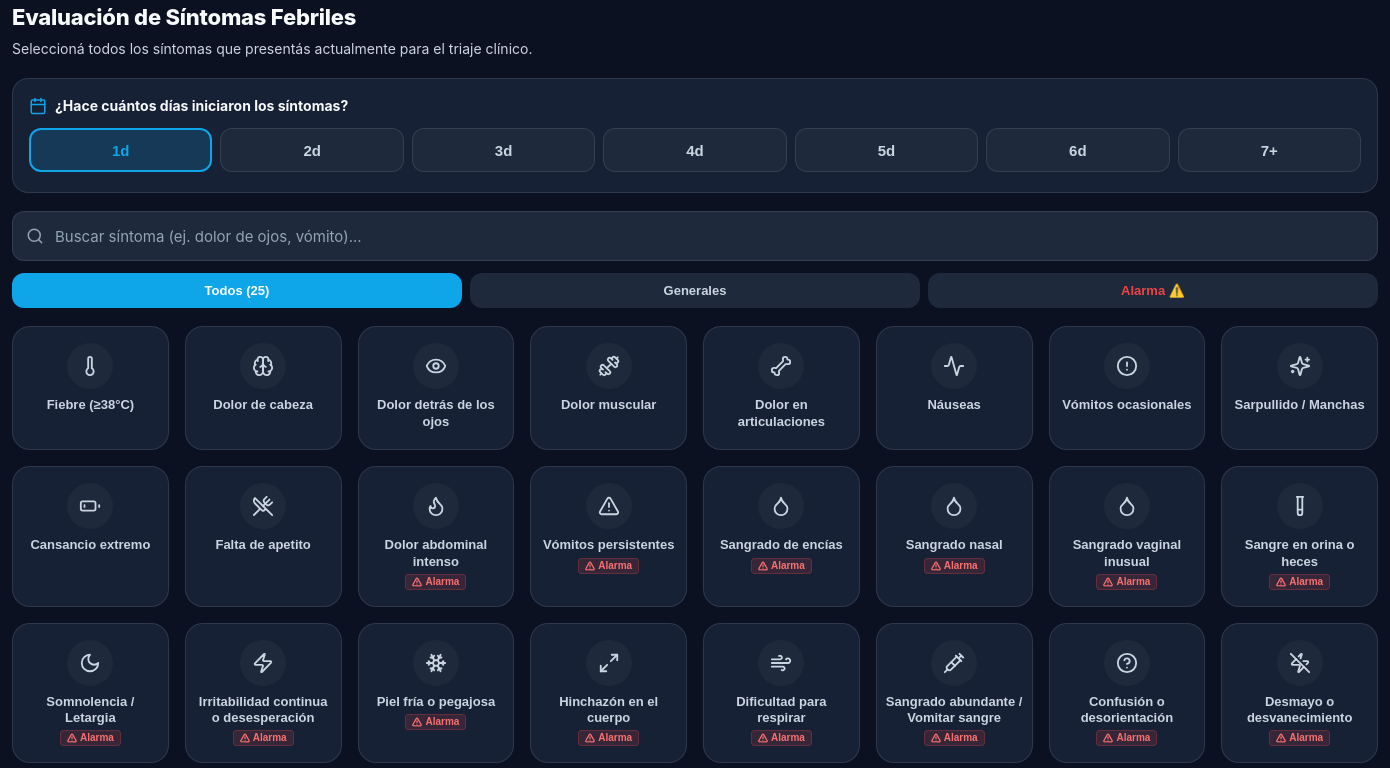
Scenario: SelectorSintomasPage — fase crítica › muestra la pregunta sobre descenso de fiebre únicamente entre los días 3 y 6
The width and height of the screenshot is (1390, 768).
Check: the text "¿La fiebre bajó o desapareció recientemente?" is not shown
Click the button "3d" at x=504, y=150, box [412,128,595,172]
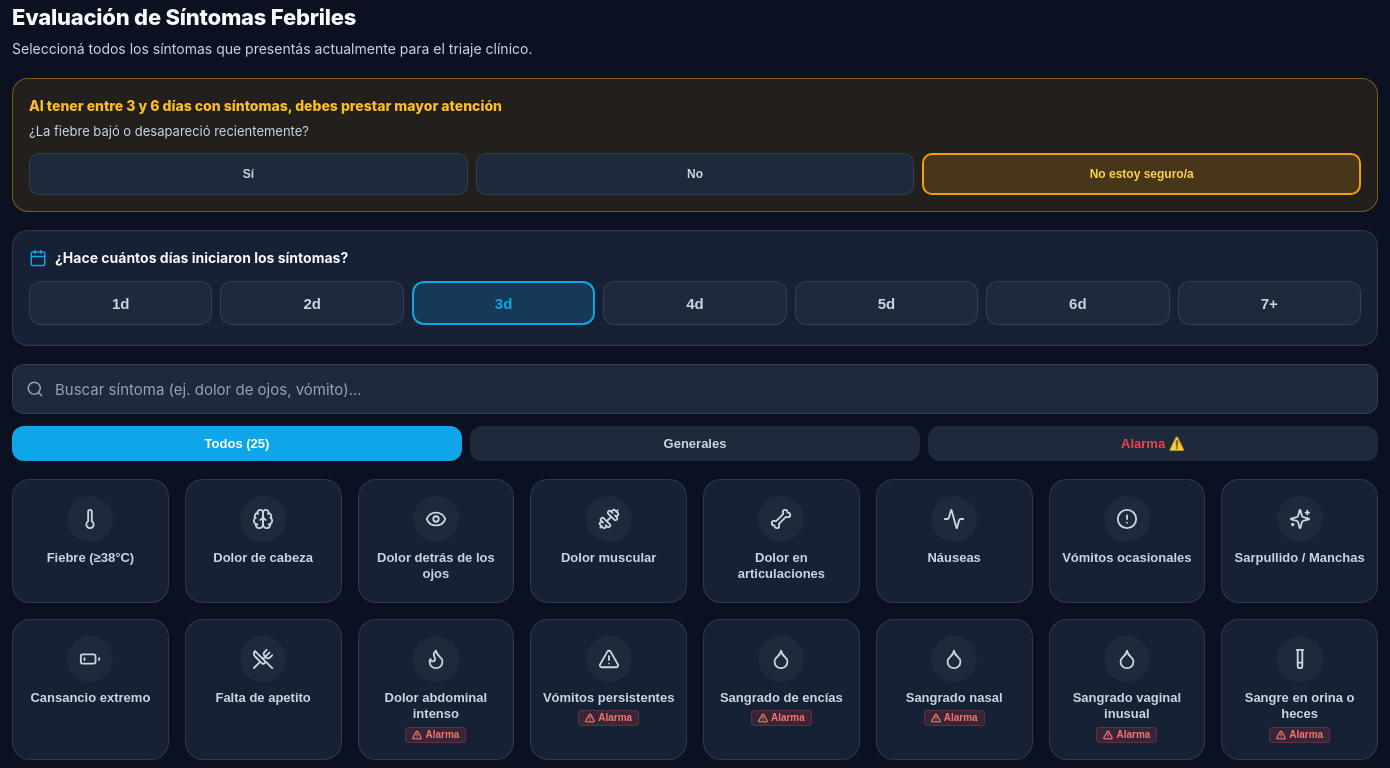
Check: the text "¿La fiebre bajó o desapareció recientemente?" is shown, box [29,124,309,140]
Check: the button "No estoy seguro/a" is shown, box [922,153,1361,195]
Click the button "7+" at x=1269, y=303, box [1178,281,1361,325]
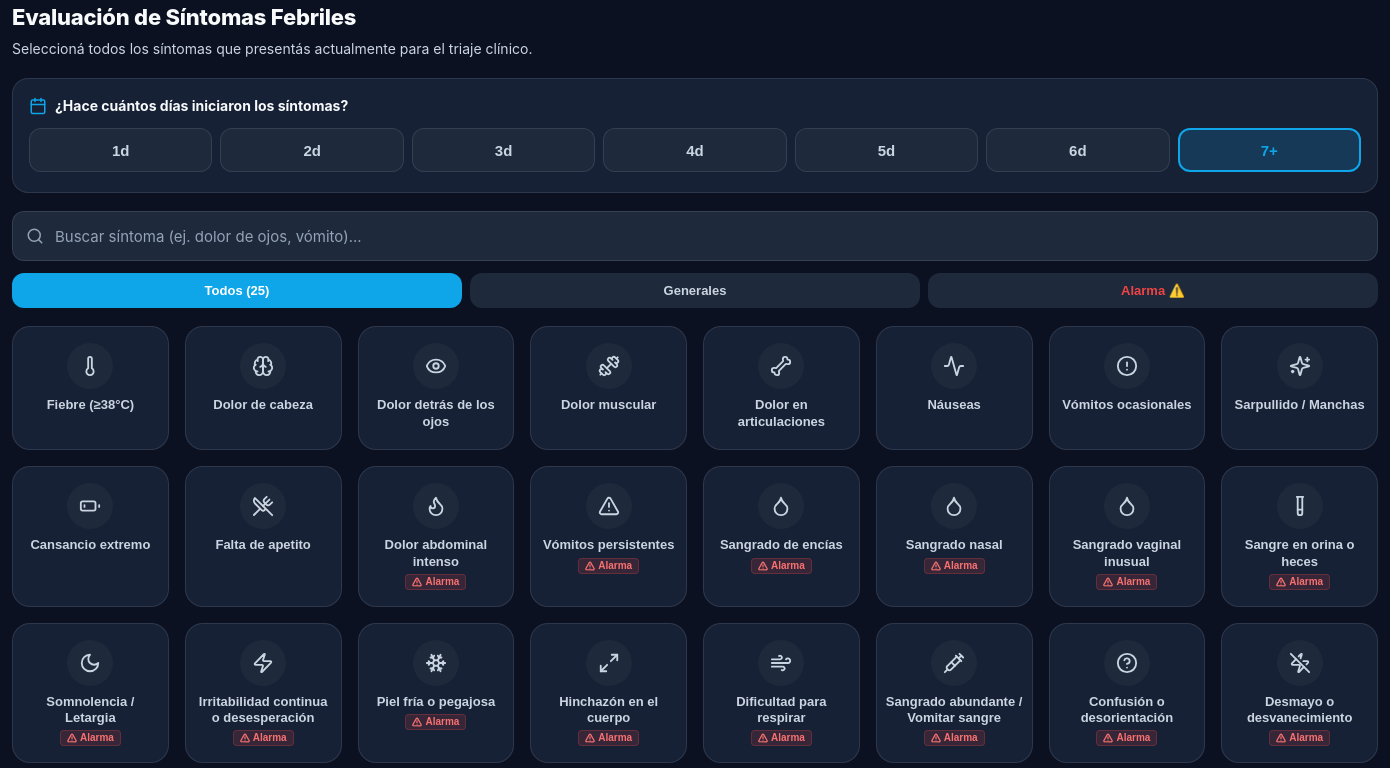
Check: the text "¿La fiebre bajó o desapareció recientemente?" is gone
